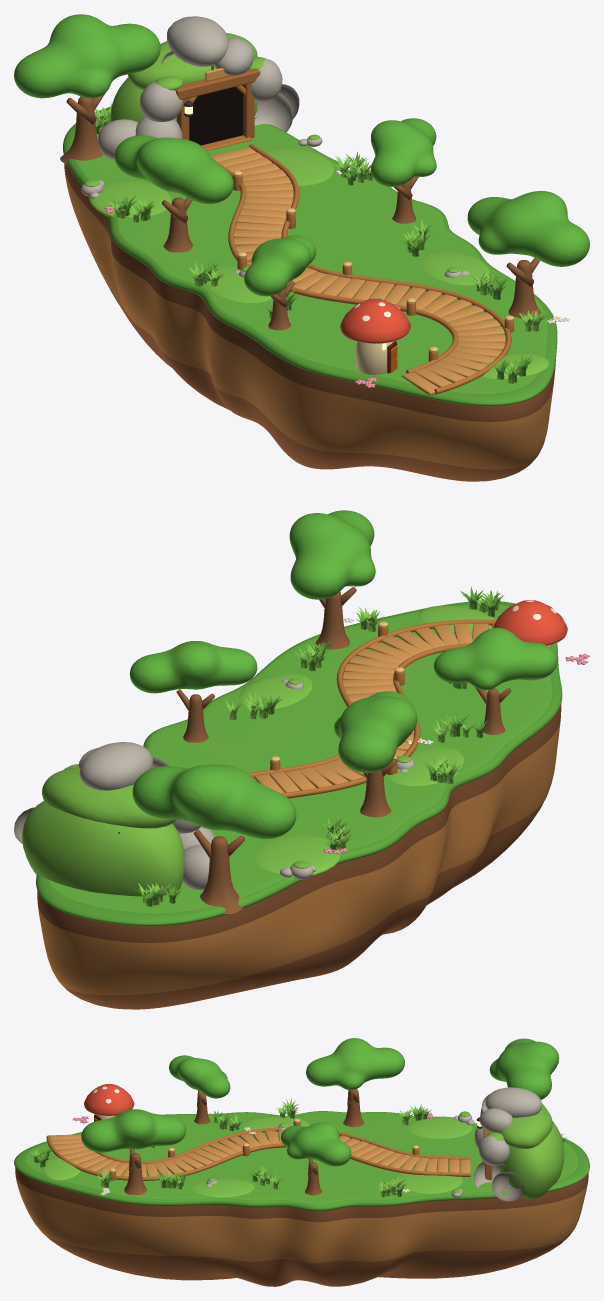
Rendered from GROK_T003_ENVIRONMENT.glb.
3 renders of one model, top to bottom at view 1: azimuth 30°, elevation 25°; view 2: azimuth 150°, elevation 25°; view 3: azimuth 270°, elevation 25°, orthographic. The views are drawn at different scales.
Parts seen in each view (by area): view 1: Grok_Island_Earth_Mass, Grok_Island_Meadow_Cap, Grok_Boardwalk_Deck, Grok_Tree_Northwest_Crown_Mass, Grok_Tree_Southeast_Crown_Mass, Grok_Tree_West_Crown_Mass, Grok_Tree_East_Crown_Mass, Grok_Tree_Southwest_Crown_Mass, Grok_Mine_Dark_Interior, Grok_Mine_Stone_08, Cottage_Red_Domed_Cap, Grok_Boardwalk_Curb_R (+19 smaller); view 2: Grok_Island_Earth_Mass, Grok_Island_Meadow_Cap, Grok_Mine_Hill_Mass, Grok_Tree_Northwest_Crown_Mass, Grok_Boardwalk_Deck, Grok_Tree_Southeast_Crown_Mass, Grok_Tree_Southwest_Crown_Mass, Grok_Tree_East_Crown_Mass, Grok_Tree_West_Crown_Mass, Grok_Mine_Moss_Crown, Grok_Mine_Stone_08, Grok_Meadow_Hillock_3 (+12 smaller); view 3: Grok_Island_Earth_Mass, Grok_Island_Meadow_Cap, Grok_Boardwalk_Deck, Grok_Tree_West_Crown_Mass, Grok_Tree_Southeast_Crown_Mass, Grok_Tree_Northwest_Crown_Mass, Grok_Mine_Hill_Mass, Grok_Tree_East_Crown_Mass, Grok_Tree_Southwest_Crown_Mass, Grok_Boardwalk_Curb_R, Grok_Mine_Moss_Crown, Grok_Mine_Stone_08 (+14 smaller).
Part boxes in pixels (box(x1,y1,x2,y2)): Grok_Island_Earth_Mass: box(64, 163, 555, 481); Grok_Island_Meadow_Cap: box(63, 107, 557, 406); Grok_Boardwalk_Deck: box(211, 147, 505, 395); Grok_Tree_Northwest_Crown_Mass: box(14, 14, 160, 98); Grok_Tree_Southeast_Crown_Mass: box(467, 191, 589, 266); Grok_Tree_West_Crown_Mass: box(114, 135, 233, 203); Grok_Tree_East_Crown_Mass: box(371, 118, 436, 186); Grok_Tree_Southwest_Crown_Mass: box(244, 235, 316, 296); Grok_Mine_Dark_Interior: box(189, 85, 243, 145); Grok_Mine_Stone_08: box(167, 16, 228, 66); Cottage_Red_Domed_Cap: box(340, 298, 410, 343); Grok_Boardwalk_Curb_R: box(249, 143, 511, 394); Grok_Island_Earth_Mass: box(37, 704, 561, 1009); Grok_Island_Meadow_Cap: box(36, 601, 562, 926); Grok_Mine_Hill_Mass: box(22, 801, 184, 896); Grok_Tree_Northwest_Crown_Mass: box(132, 764, 296, 838); Grok_Boardwalk_Deck: box(252, 623, 553, 793); Grok_Tree_Southeast_Crown_Mass: box(289, 510, 375, 599); Grok_Tree_Southwest_Crown_Mass: box(434, 627, 557, 690); Grok_Tree_East_Crown_Mass: box(129, 641, 257, 693); Grok_Tree_West_Crown_Mass: box(334, 691, 417, 772); Grok_Mine_Moss_Crown: box(42, 767, 175, 828); Grok_Mine_Stone_08: box(79, 742, 152, 790); Grok_Meadow_Hillock_3: box(254, 834, 341, 878); Grok_Island_Earth_Mass: box(15, 1167, 588, 1286); Grok_Island_Meadow_Cap: box(14, 1111, 589, 1211); Grok_Boardwalk_Deck: box(49, 1130, 470, 1176); Grok_Tree_West_Crown_Mass: box(306, 1038, 404, 1089); Grok_Tree_Southeast_Crown_Mass: box(81, 1109, 185, 1152); Grok_Tree_Northwest_Crown_Mass: box(489, 1038, 559, 1099); Grok_Mine_Hill_Mass: box(500, 1121, 564, 1199); Grok_Tree_East_Crown_Mass: box(281, 1122, 351, 1166); Grok_Tree_Southwest_Crown_Mass: box(169, 1055, 230, 1098); Grok_Boardwalk_Curb_R: box(46, 1135, 470, 1180); Grok_Mine_Moss_Crown: box(500, 1103, 552, 1148); Grok_Mine_Stone_08: box(485, 1087, 541, 1117).
Bounding box in the file's own units: 8.64 × 8.09 × 20.72.
Materials: 30 (2 with a texture image).
